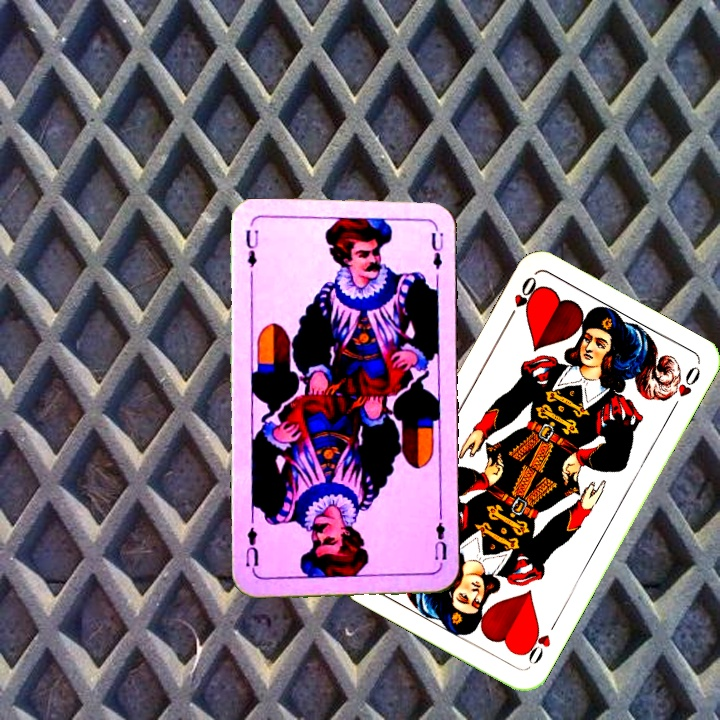EU: (431, 512, 450, 563), (241, 225, 261, 270)
HO: (502, 272, 543, 325), (519, 616, 561, 667)
